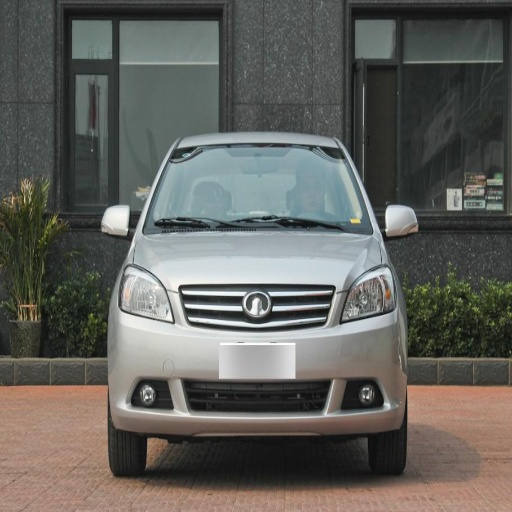front_bumper: (110, 289, 403, 433)
front_right_light: (119, 266, 174, 323)
hood: (134, 234, 381, 293)
left_mirror: (383, 204, 418, 239)
